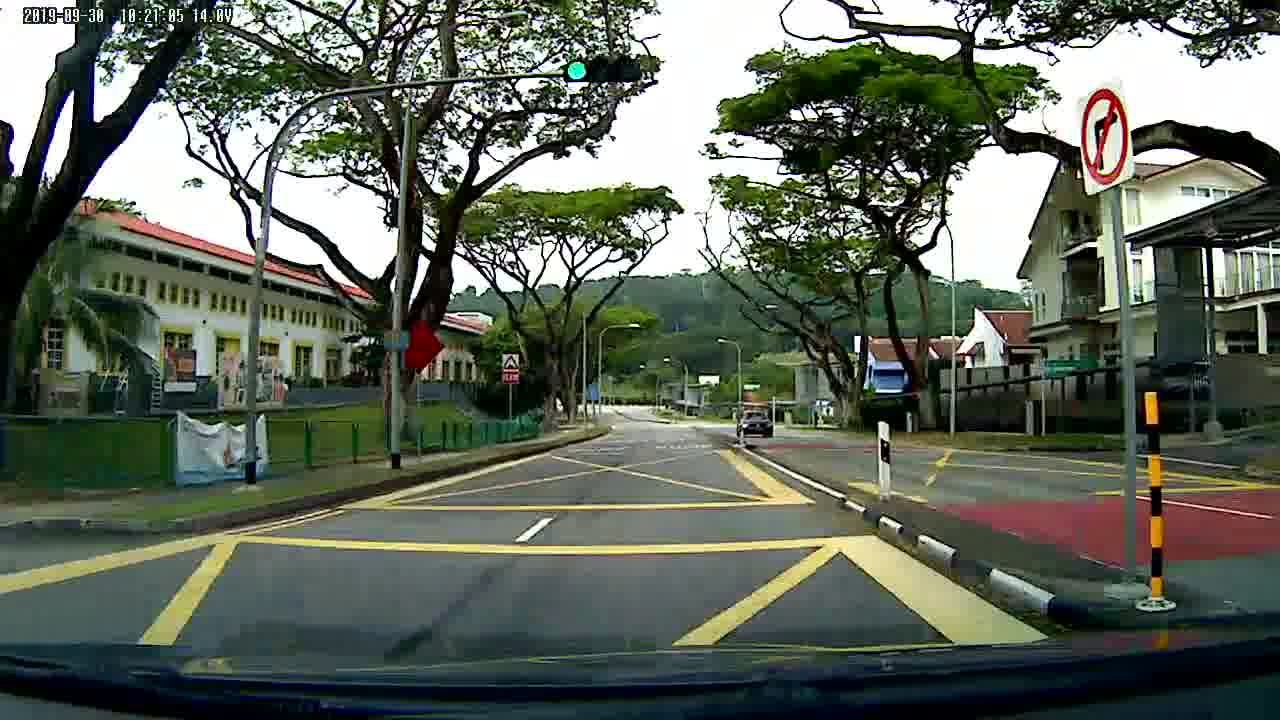car: (734, 407, 777, 438)
